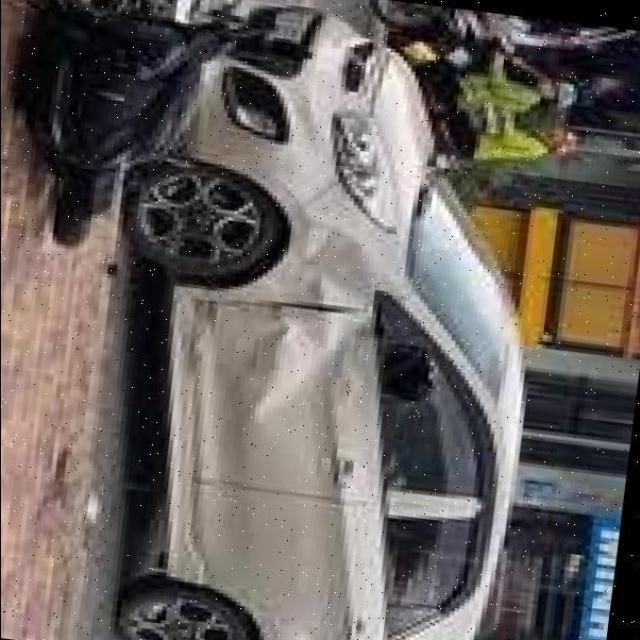accident: (0, 0, 509, 455)
